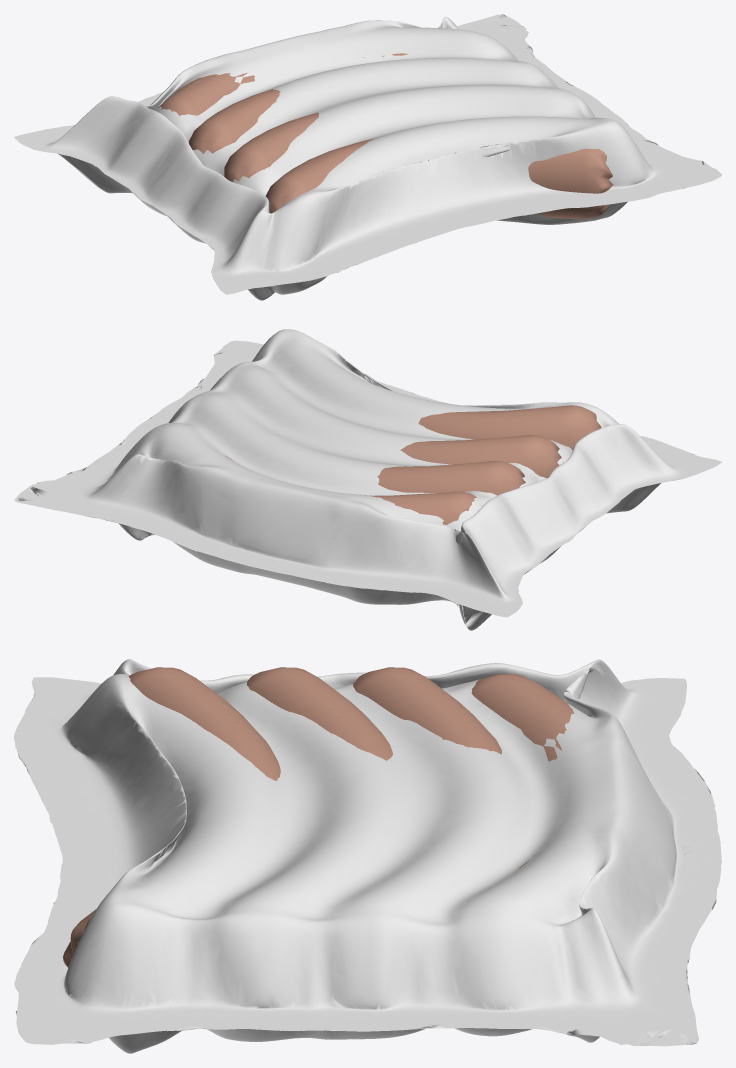
The model's file is Sausagesglb-draco.glb.
3 views of the same model, one above another, from view 1: azimuth 30°, elevation 25°; view 2: azimuth 150°, elevation 25°; view 3: azimuth 270°, elevation 25° (orthographic). The views are drawn at different scales.
Visible parts, largest first — view 1: Cube, pCylinder1_blinn1_0.001, pCylinder1_blinn1_0.002, pCylinder1_blinn1_0, pCylinder1_blinn1_0.003; view 2: Cube, pCylinder1_blinn1_0.001, pCylinder1_blinn1_0, pCylinder1_blinn1_0.002, pCylinder1_blinn1_0.003; view 3: Cube, pCylinder1_blinn1_0.001, pCylinder1_blinn1_0.002, pCylinder1_blinn1_0, pCylinder1_blinn1_0.003.
Part boxes in pixels (left/top/right/bottom): Cube: left=14, top=14, right=721, bottom=300; pCylinder1_blinn1_0.001: left=265, top=138, right=612, bottom=219; pCylinder1_blinn1_0.002: left=189, top=89, right=280, bottom=153; pCylinder1_blinn1_0: left=224, top=112, right=318, bottom=181; pCylinder1_blinn1_0.003: left=158, top=53, right=408, bottom=118; Cube: left=14, top=329, right=721, bottom=630; pCylinder1_blinn1_0.001: left=418, top=405, right=601, bottom=450; pCylinder1_blinn1_0: left=400, top=435, right=561, bottom=478; pCylinder1_blinn1_0.002: left=377, top=461, right=525, bottom=495; pCylinder1_blinn1_0.003: left=225, top=455, right=481, bottom=524; Cube: left=14, top=659, right=721, bottom=1053; pCylinder1_blinn1_0.001: left=63, top=667, right=280, bottom=967; pCylinder1_blinn1_0.002: left=353, top=667, right=501, bottom=754; pCylinder1_blinn1_0: left=247, top=667, right=392, bottom=760; pCylinder1_blinn1_0.003: left=471, top=674, right=574, bottom=868.
Bounding box in the file's own units: 7.25 × 1.53 × 5.88.
